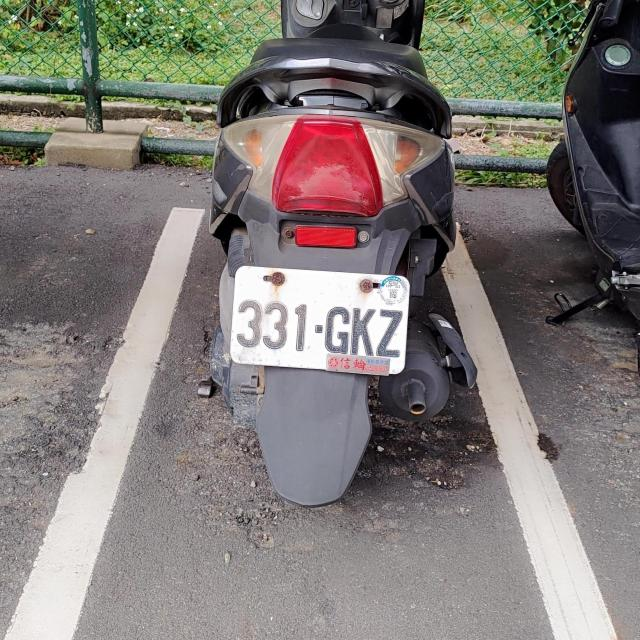W: (228, 266, 411, 372)
